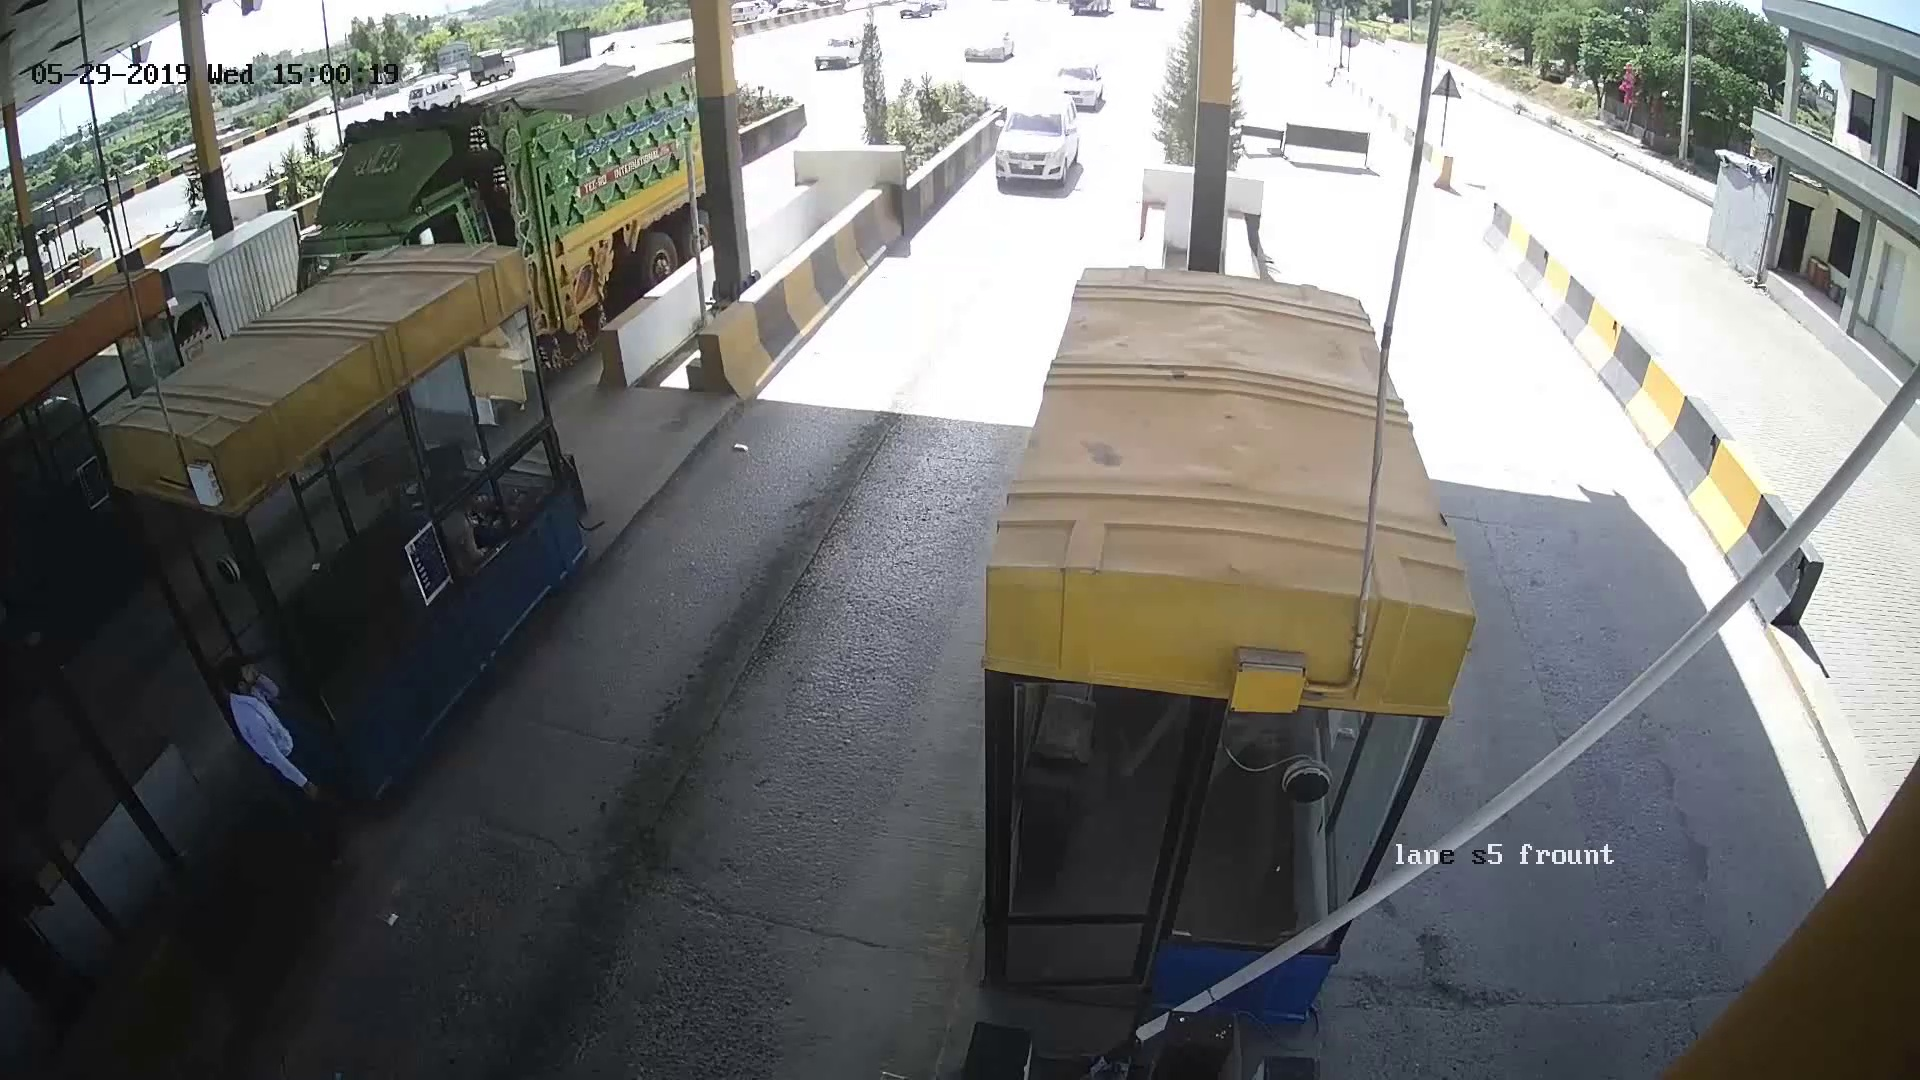car: (955, 100, 1102, 196)
